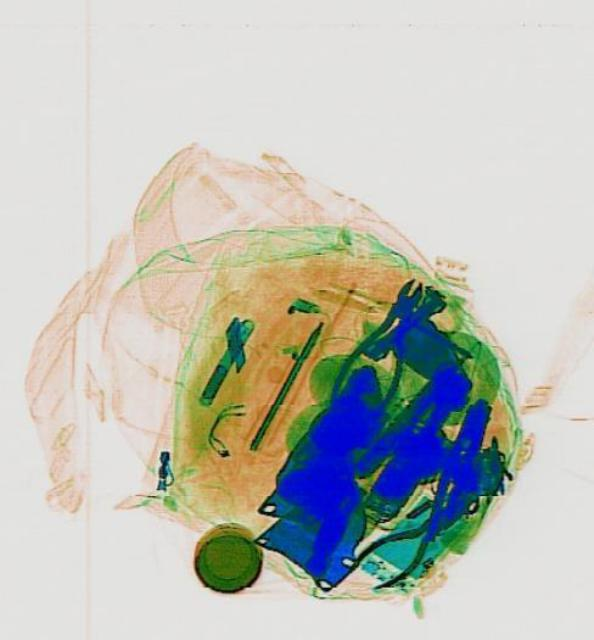Pliers: (319, 266, 442, 426), (342, 478, 485, 598)
